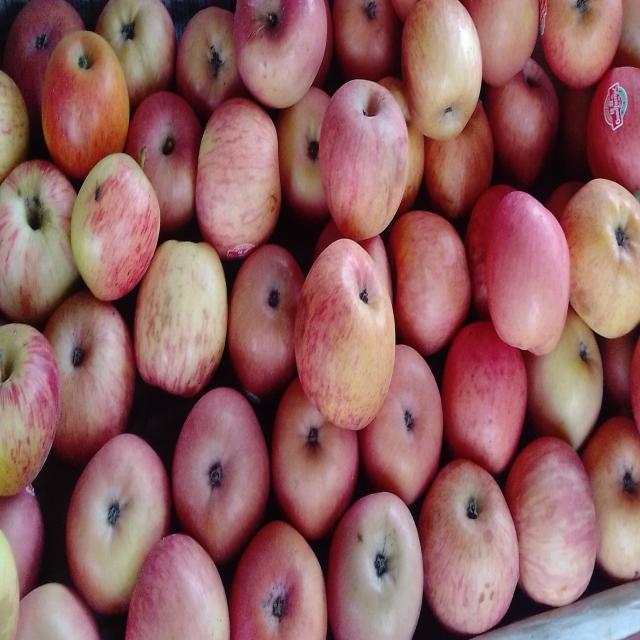apple: (295, 239, 395, 429), (66, 434, 170, 614), (418, 460, 518, 634), (172, 388, 270, 564), (45, 291, 135, 466), (505, 437, 597, 606), (134, 241, 227, 396), (319, 80, 409, 240), (327, 493, 423, 639), (271, 378, 358, 539), (196, 98, 281, 259), (486, 192, 569, 355), (358, 345, 443, 504), (71, 153, 160, 301), (442, 322, 527, 474), (0, 160, 78, 325), (42, 32, 129, 178), (561, 179, 639, 338), (388, 211, 471, 356), (227, 245, 304, 398), (229, 521, 327, 639), (125, 92, 203, 236), (525, 307, 603, 450), (2, 0, 84, 136), (402, 0, 482, 139), (125, 534, 229, 639), (0, 324, 60, 496), (234, 0, 327, 108), (487, 59, 559, 187), (583, 417, 639, 581), (95, 0, 176, 112), (424, 101, 494, 220), (176, 7, 245, 124), (277, 87, 330, 224), (541, 0, 622, 88), (465, 185, 515, 320), (587, 67, 639, 193), (463, 0, 539, 86), (379, 76, 424, 215), (333, 0, 402, 81), (0, 485, 44, 597), (15, 583, 100, 639), (559, 85, 596, 182), (599, 328, 639, 415), (0, 71, 29, 181), (0, 531, 19, 639), (359, 235, 392, 296), (312, 0, 333, 88), (613, 0, 639, 66), (545, 181, 584, 220), (630, 339, 639, 425), (392, 0, 417, 24)
